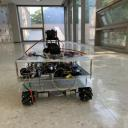cart: (13, 53, 95, 106)
